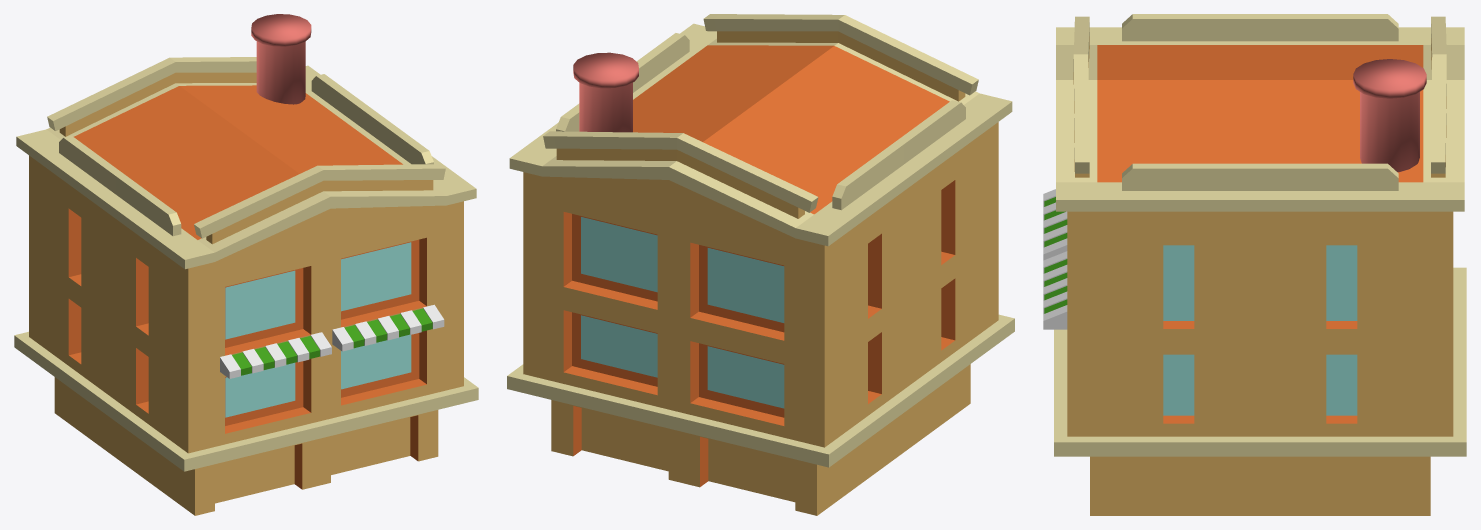
Rendered from SceneComplex_Building_School.fbx.
3 renders of one model, left to right at view 1: azimuth 30°, elevation 25°; view 2: azimuth 150°, elevation 25°; view 3: azimuth 270°, elevation 25°, orthographic. The views are drawn at different scales.
Visible parts, largest first — view 1: Cube.022; view 2: Cube.022; view 3: Cube.022.
Part boxes in pixels (x1,y1,x2,y2): Cube.022: (14,14,478,515); Cube.022: (507,14,1014,515); Cube.022: (1043,14,1466,515).
Bounding box in the file's own units: 159 × 179 × 163.
